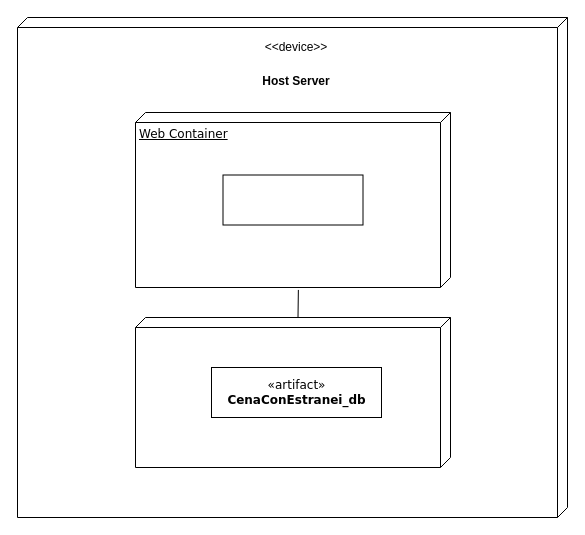
The diagram is 585 pixels wide and 535 high, and some of its shapes have lost their labels. Here are the shapes that lost their labels. From the top down, the box of each, then its label:
(222, 174, 363, 225): «artifact» Applicazione PHP
(134, 316, 450, 468): Database Container
